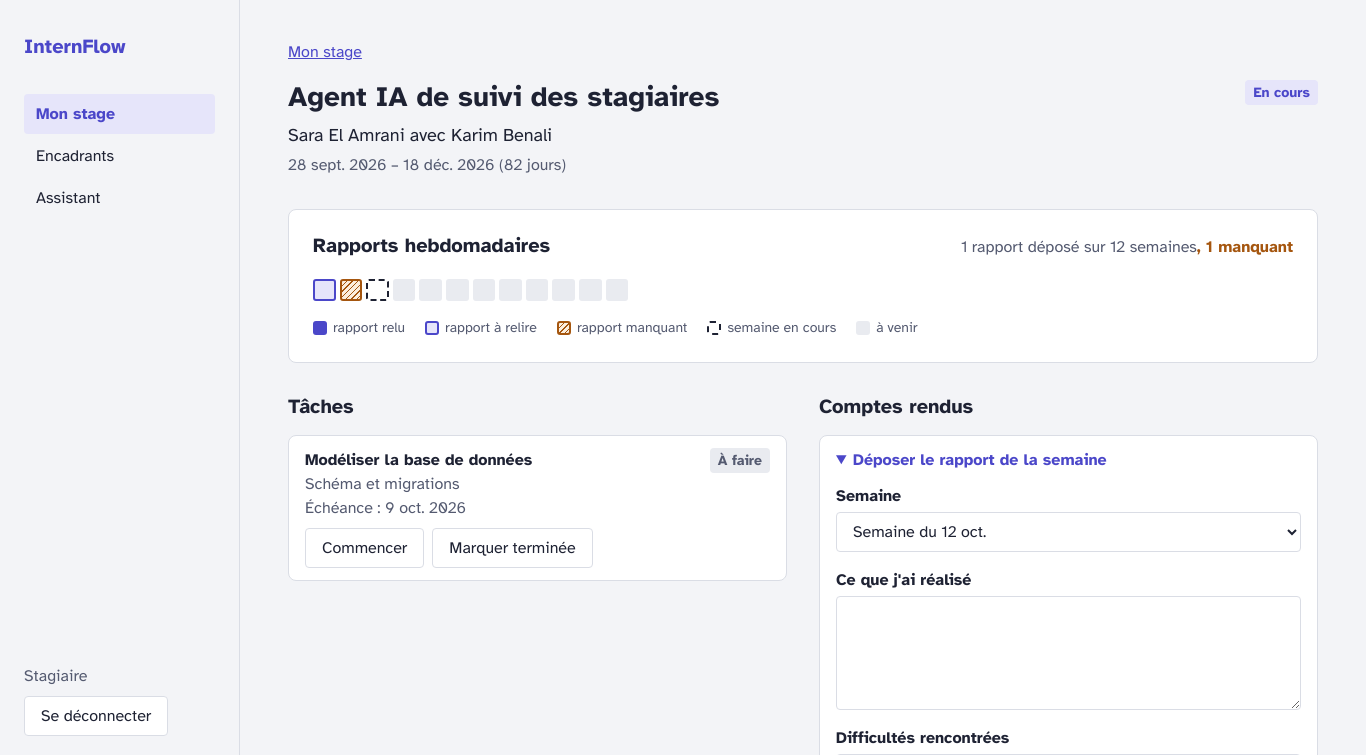
Test: page d'un stage › permet au stagiaire de déposer le rapport d'une semaine sans rapport
The width and height of the screenshot is (1366, 755).
Select "Semaine du 5 oct." in the dropdown labelled "Semaine" at (1068, 532), box x1=836 y1=512 x2=1301 y2=552
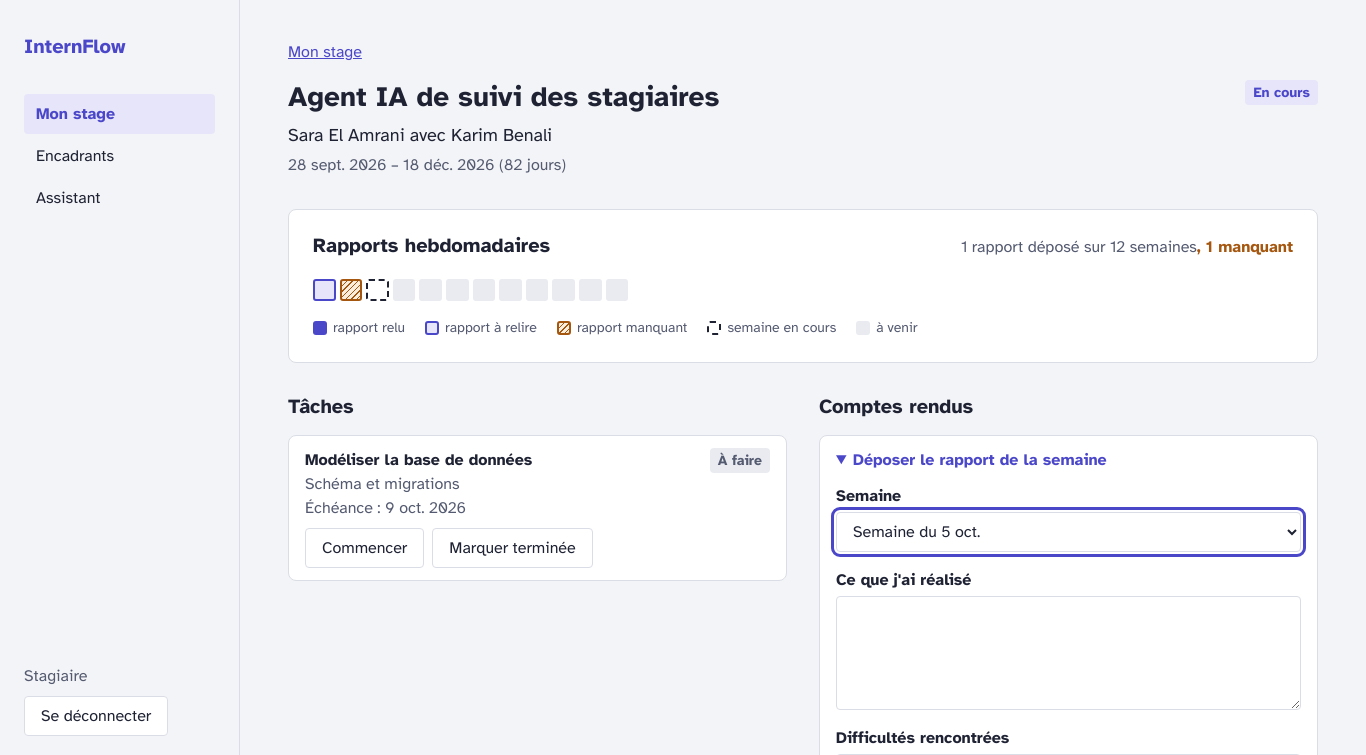
Type "Modèle de données terminé" into the text box labelled "Ce que j'ai réalisé" at (1068, 653), box x1=836 y1=596 x2=1301 y2=710
(page scrolled)
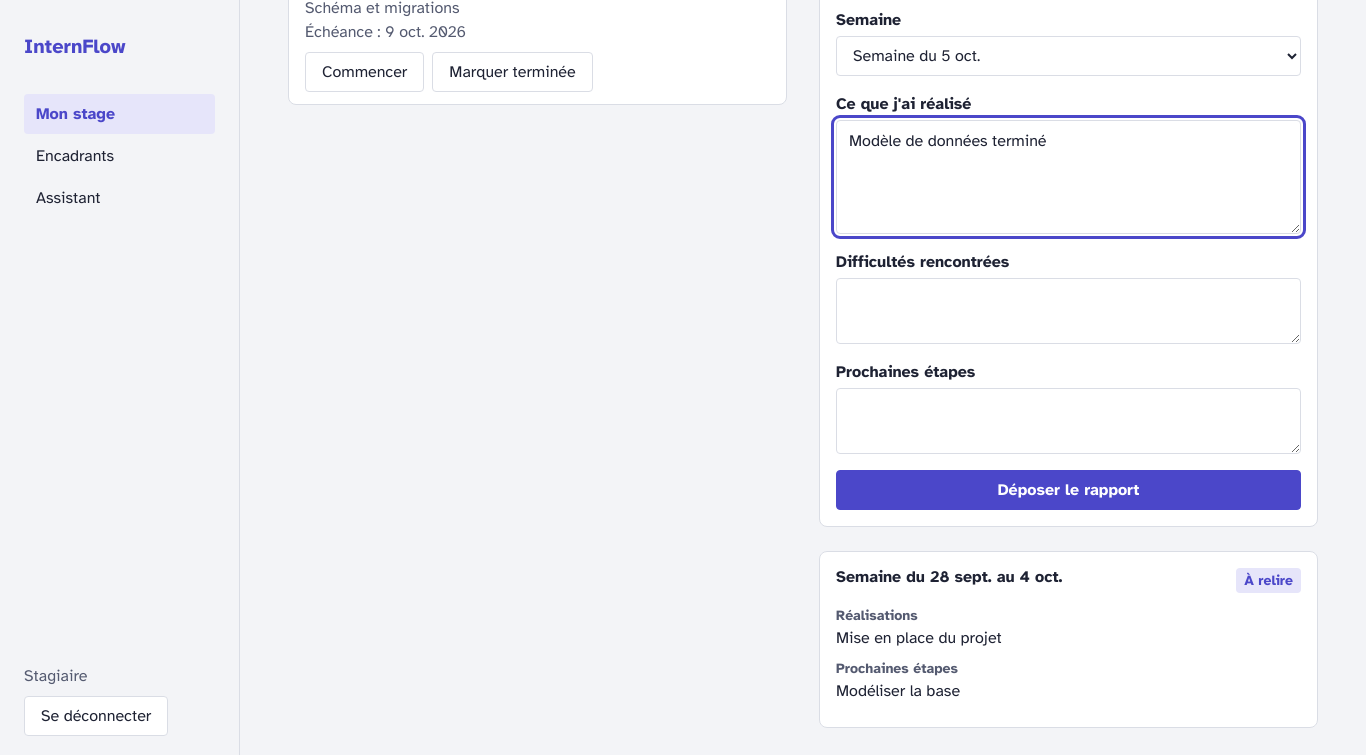
Click the button "Déposer le rapport" at (1068, 490), box x1=836 y1=470 x2=1301 y2=510
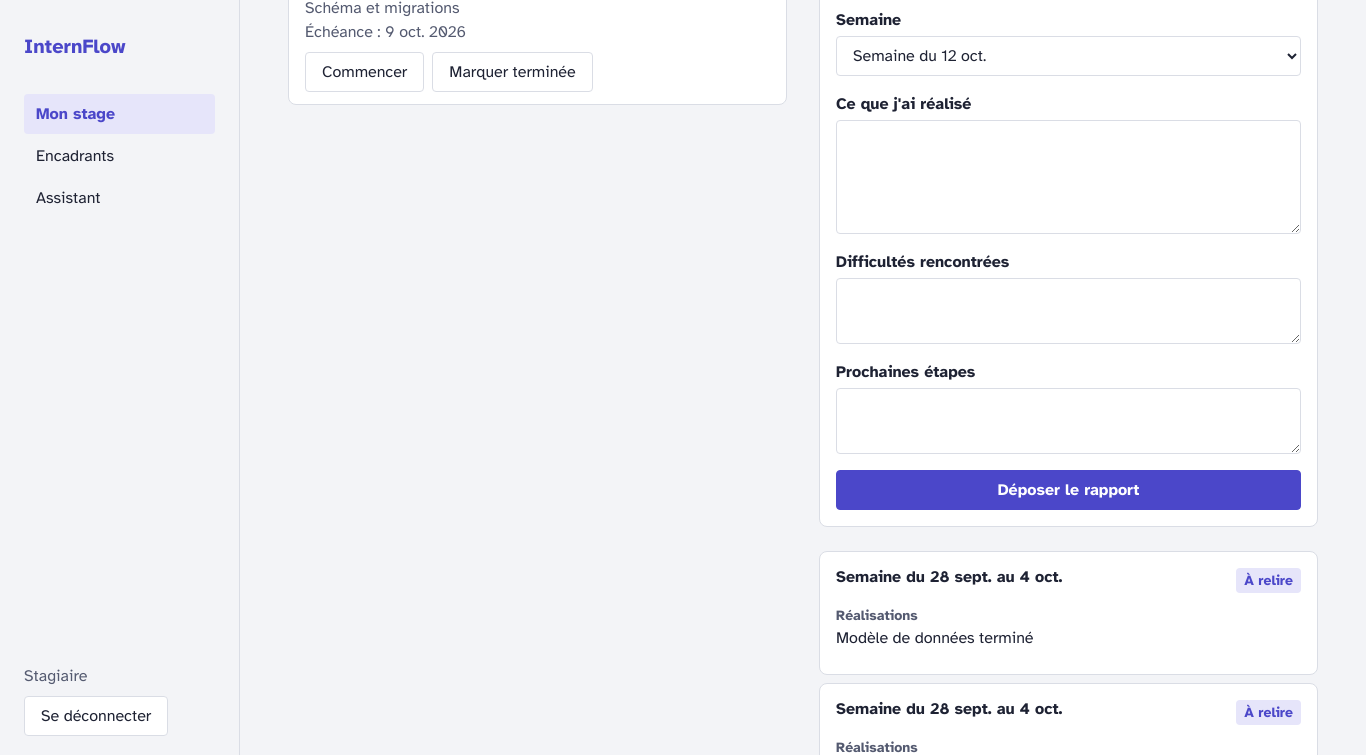
Expected: the text "Modèle de données terminé" is shown, x1=836 y1=628 x2=1033 y2=648
